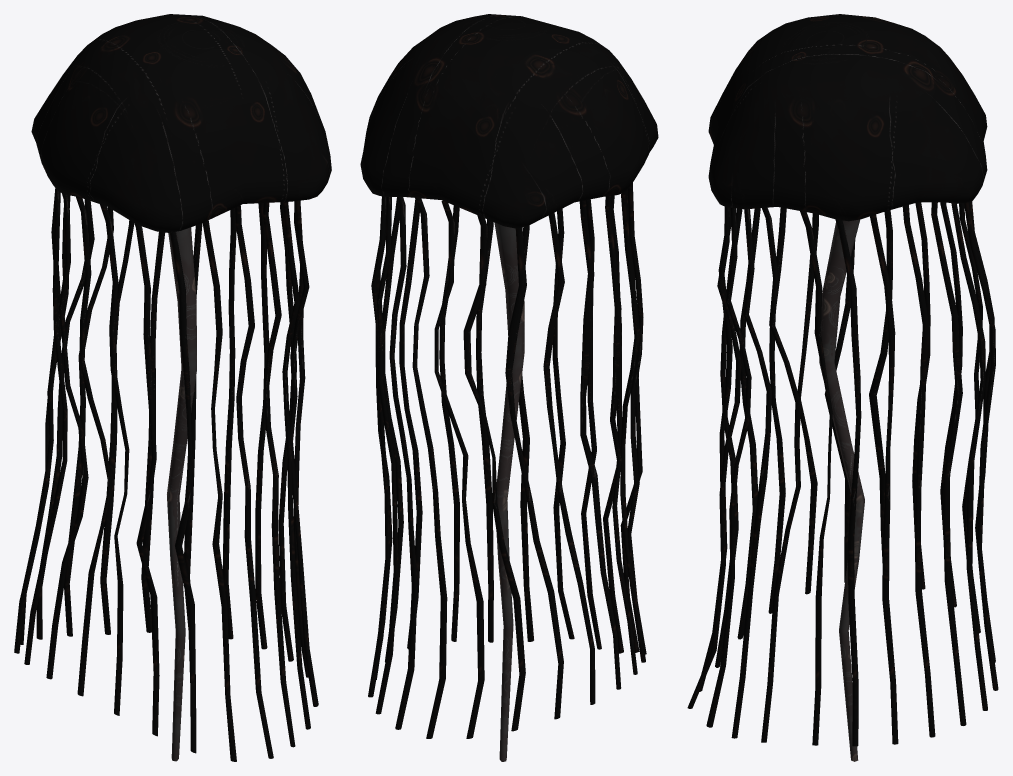
Rendered from Row_jellyfish.fbx.
3 views of the same model, side by side, from view 1: azimuth 30°, elevation 25°; view 2: azimuth 150°, elevation 25°; view 3: azimuth 270°, elevation 25° (orthographic).
Parts seen in each view (by area): view 1: jellyfish_2, jellyfish_1, jellyfish_3; view 2: jellyfish_2, jellyfish_1, jellyfish_3; view 3: jellyfish_2, jellyfish_1, jellyfish_3.
Boxes of the visible parts, x1,y1,x2,y2 form: jellyfish_2: (14, 188, 318, 761); jellyfish_1: (31, 14, 331, 232); jellyfish_3: (167, 227, 196, 761); jellyfish_2: (368, 183, 646, 738); jellyfish_1: (360, 14, 658, 228); jellyfish_3: (494, 222, 524, 761); jellyfish_2: (687, 201, 998, 746); jellyfish_1: (708, 14, 987, 221); jellyfish_3: (819, 219, 864, 761).
Bounding box in the file's own units: 3.18 × 8.49 × 3.28.
1 material, 1 textured.
